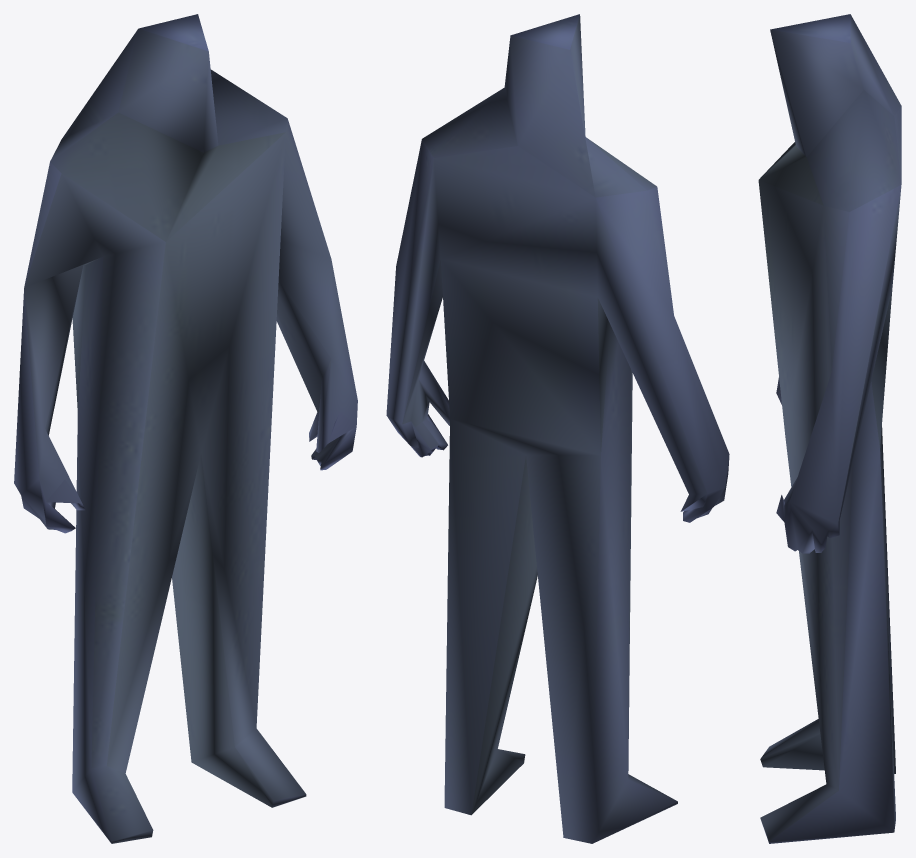
File: model.progressive.glb
The picture shows the model from 3 angles, left to right: view 1: azimuth 30°, elevation 25°; view 2: azimuth 150°, elevation 25°; view 3: azimuth 270°, elevation 25°; orthographic projection.
Visible parts, largest first — view 1: material; view 2: material; view 3: material.
Part boxes in pixels (<box>): material: <box>14,14,357,843</box>; material: <box>386,14,729,843</box>; material: <box>758,14,901,843</box>.
Size of the model in its own units: 0.8378 by 1.85 by 0.3124.
1 material, 1 textured.
